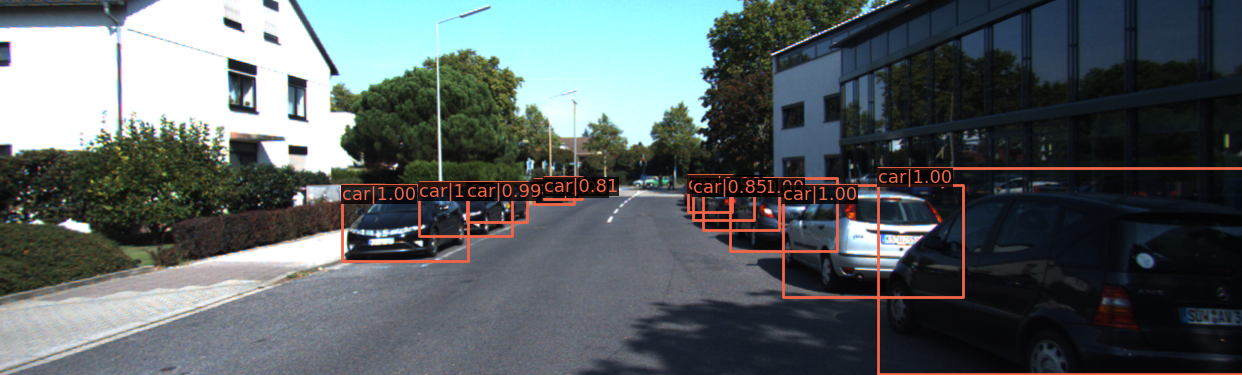car: (882, 183, 1242, 375), (780, 185, 960, 298), (344, 188, 467, 263), (733, 181, 836, 252), (423, 185, 508, 237), (704, 179, 782, 234), (463, 185, 531, 225), (536, 180, 570, 205)
